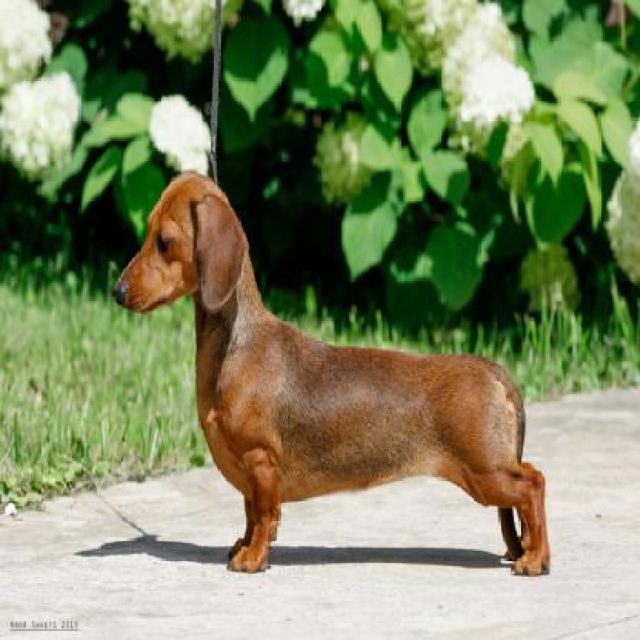Dog: (110, 166, 556, 579)
